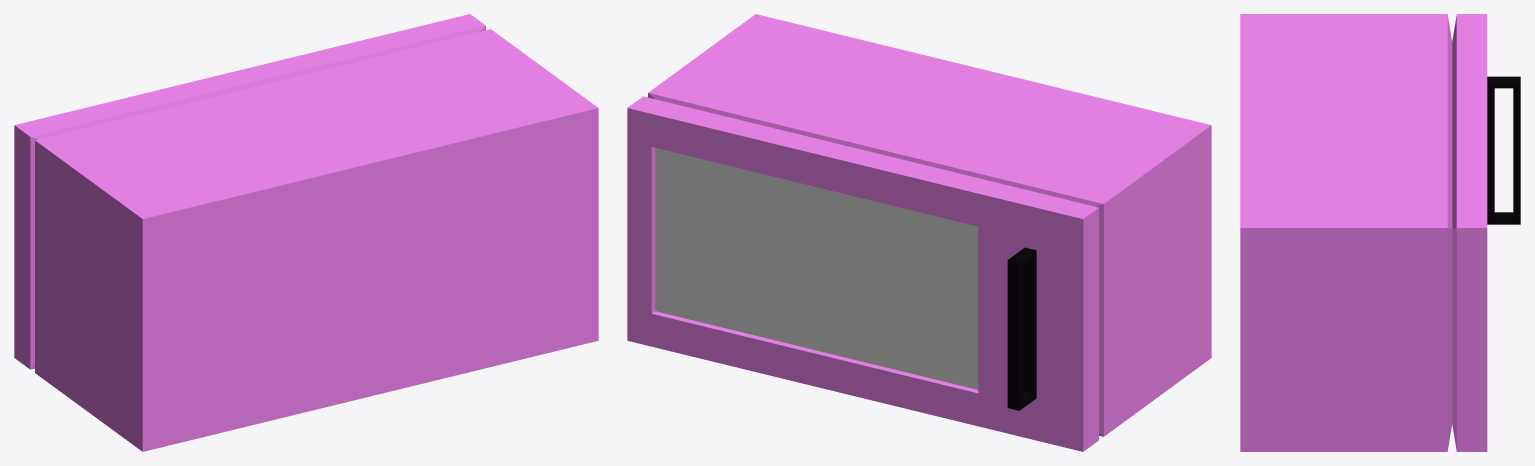
Rendered from Microwave.fbx.
3 views of the same model, side by side, from view 1: azimuth 30°, elevation 25°; view 2: azimuth 150°, elevation 25°; view 3: azimuth 270°, elevation 25° (orthographic). The views are drawn at different scales.
Parts seen in each view (by area): view 1: Microwave; view 2: Microwave; view 3: Microwave.
Part boxes in pixels (x1=…): Microwave: x1=14, y1=14, x2=598, y2=451; Microwave: x1=627, y1=14, x2=1211, y2=451; Microwave: x1=1240, y1=14, x2=1520, y2=451.
Size of the model in its own units: 410 by 200 by 227.
